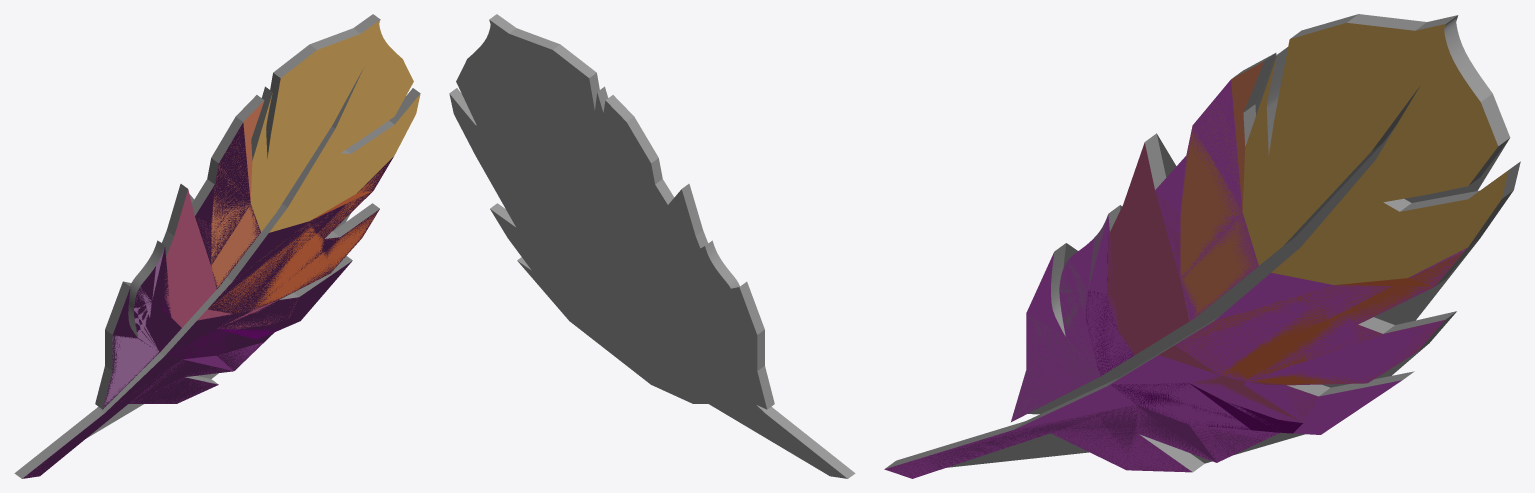
File: kanat.FBX
3 renders of one model, left to right at view 1: azimuth 30°, elevation 25°; view 2: azimuth 150°, elevation 25°; view 3: azimuth 330°, elevation 25°, orthographic. The views are drawn at different scales.
Visible parts, largest first — view 1: Line002; view 2: Line002; view 3: Line002.
Part boxes in pixels (<box>): Line002: <box>14,14,420,478</box>; Line002: <box>449,14,855,478</box>; Line002: <box>884,14,1520,478</box>.
Size of the model in its own units: 482 by 431 by 16.
